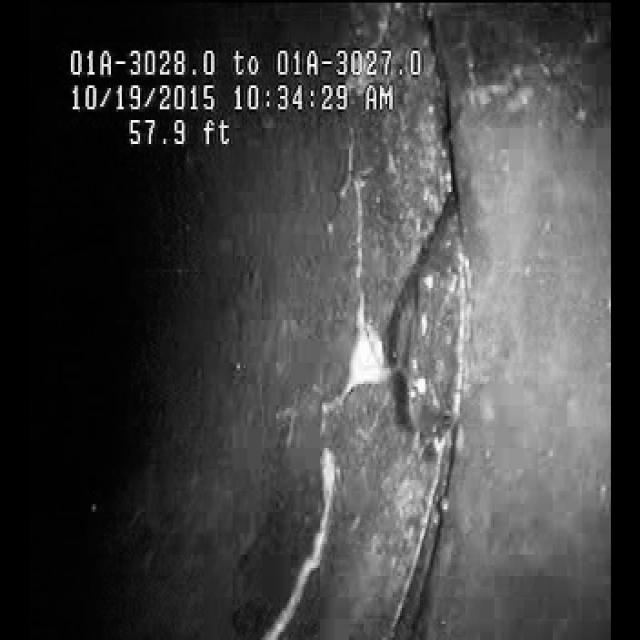Crack: (292, 184, 396, 586)
